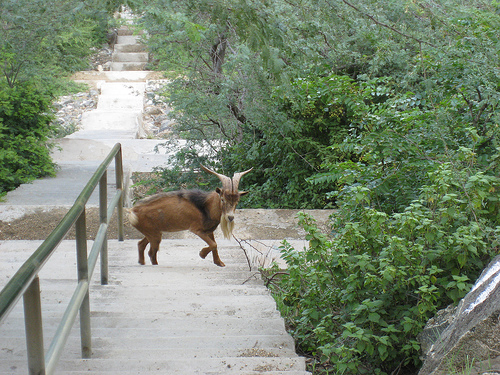goat: (126, 163, 255, 269)
